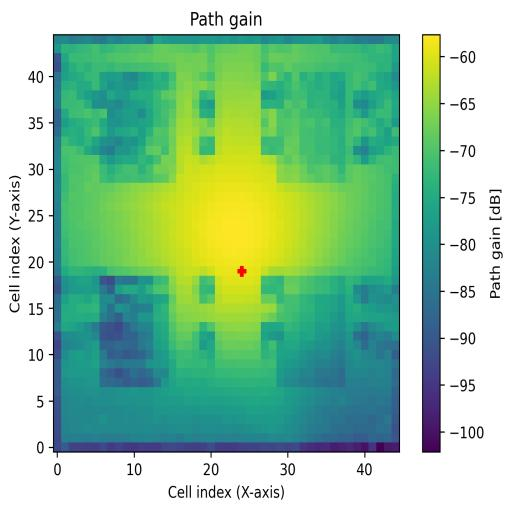Concrete: (276, 71, 346, 182)
Glass: (99, 72, 176, 182)
Metal: (277, 276, 346, 385)
Wood: (99, 276, 169, 387)
